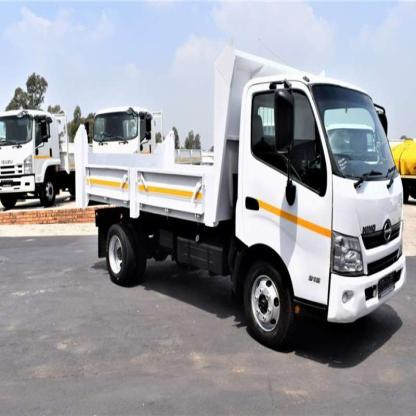dump_truck: (74, 47, 413, 349), (0, 101, 76, 216)
